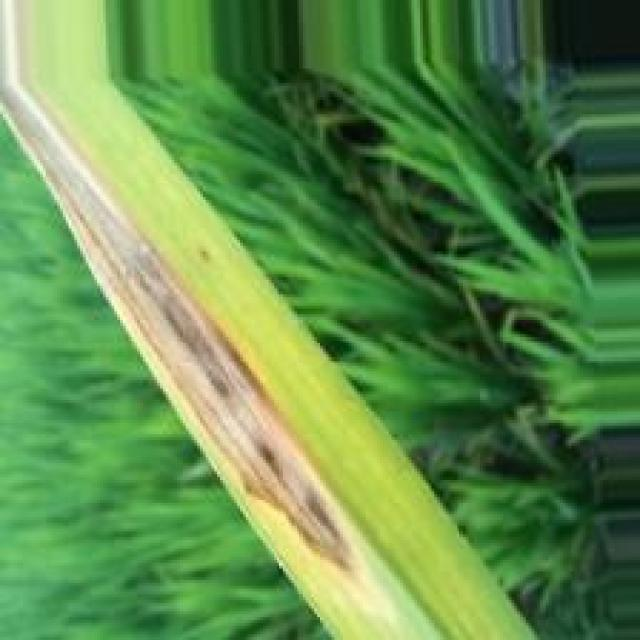Rice False Smut: (0, 75, 361, 576)
